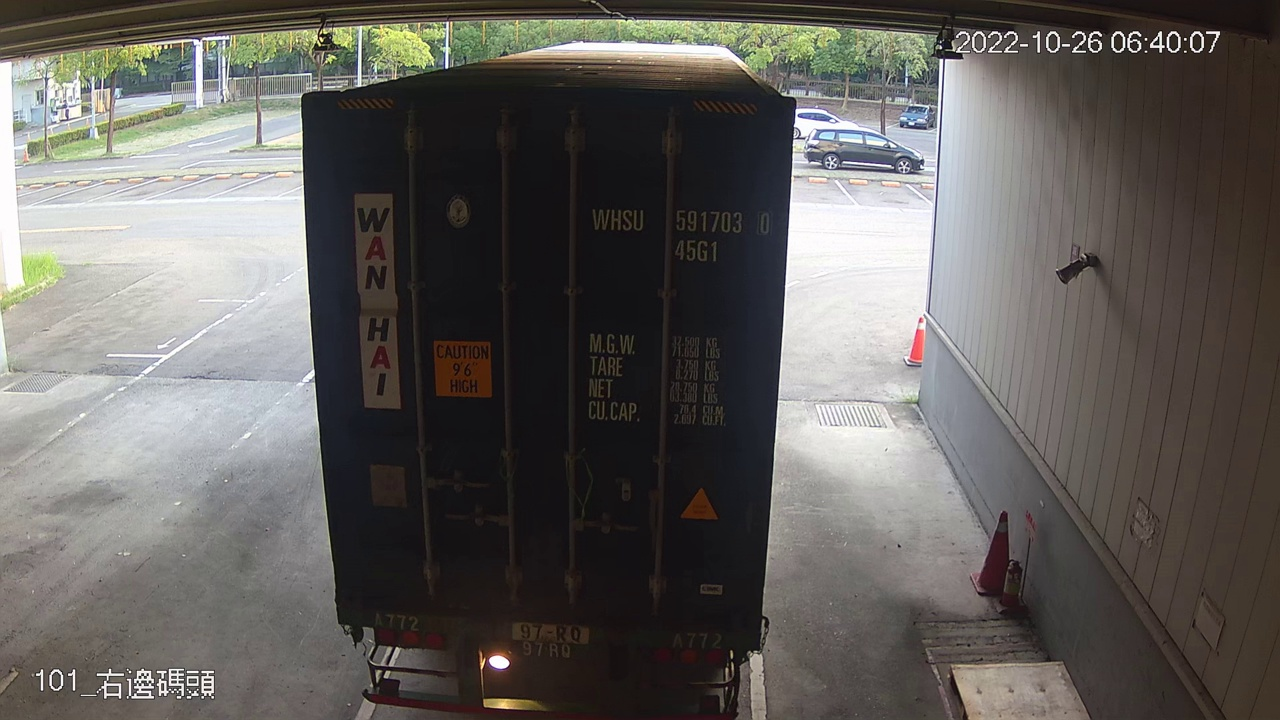container: (580, 194, 778, 269)
